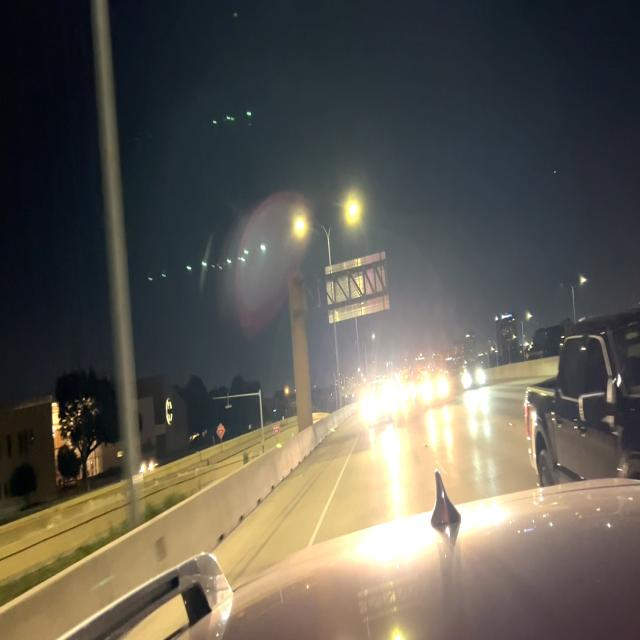back-of-sign: (326, 249, 390, 326)
